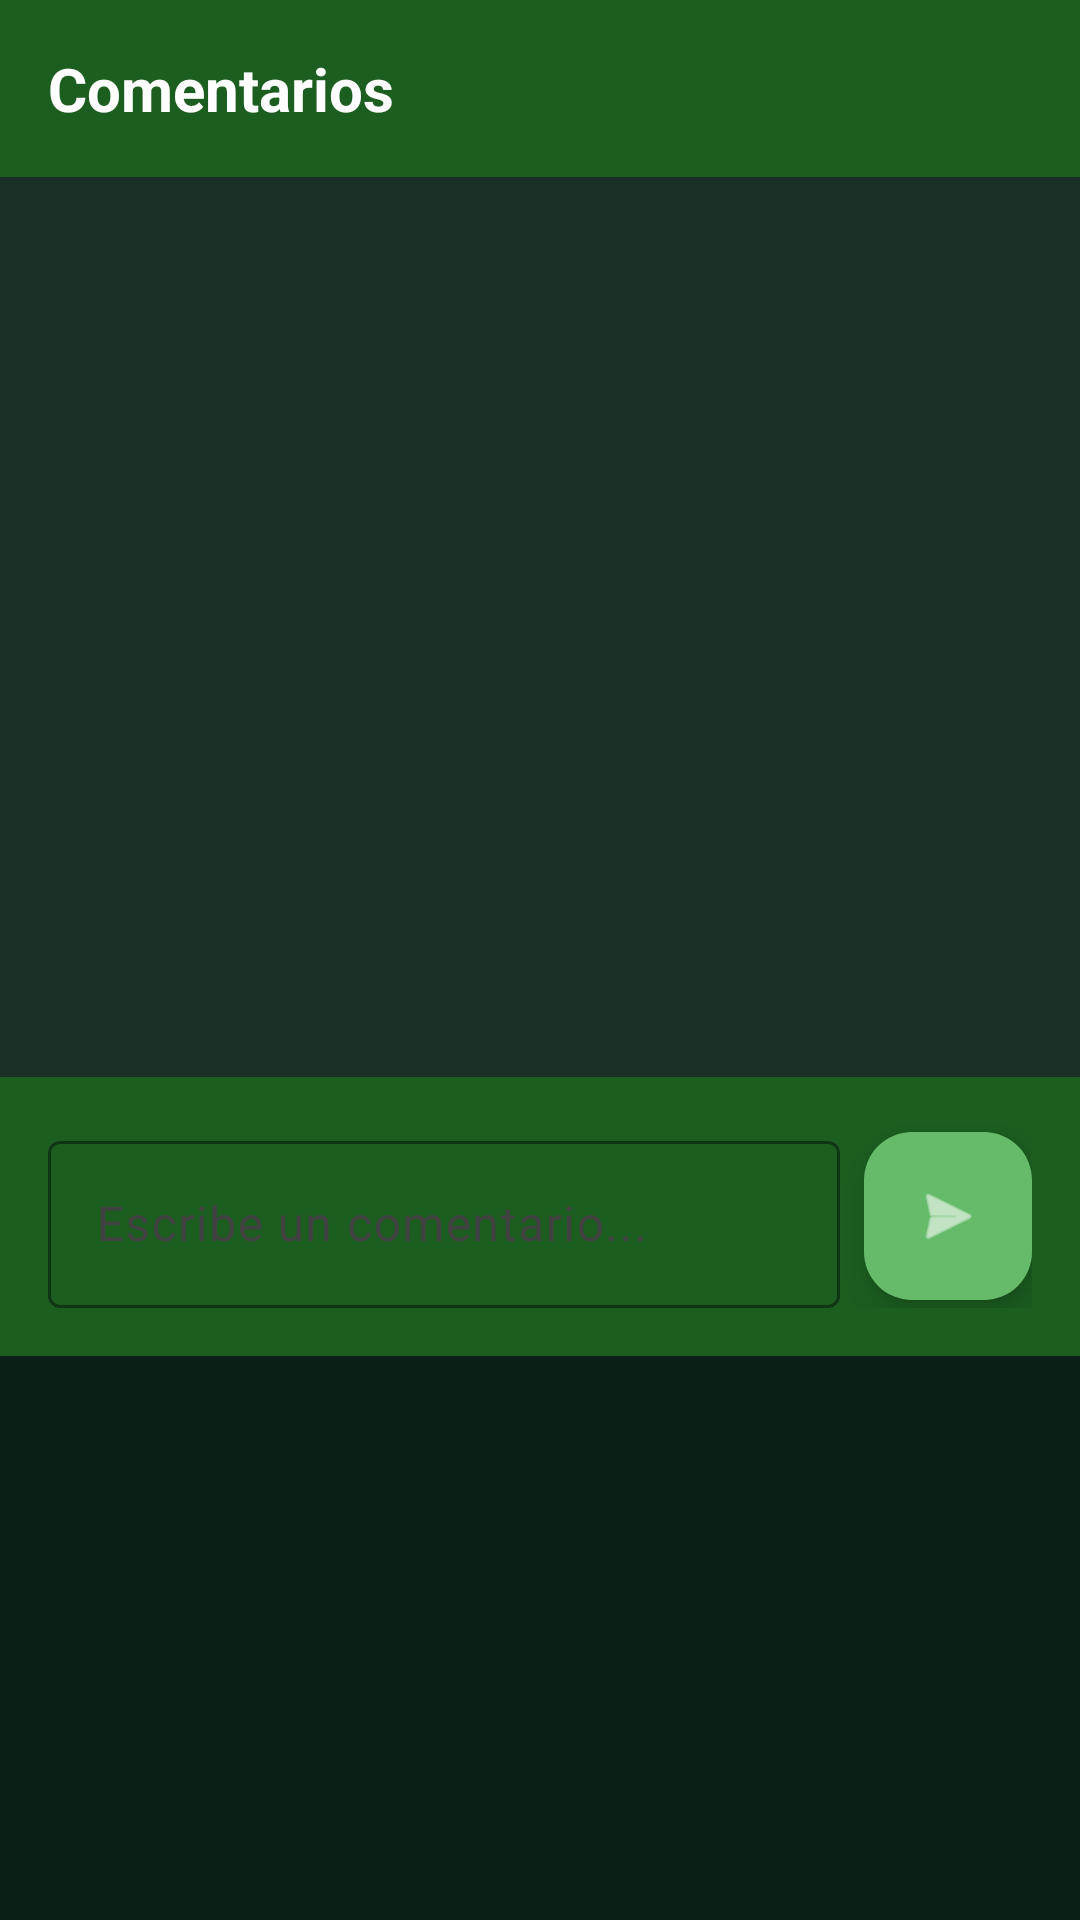

Icon bounding boxes for this 1080 × 1920 phone screenshot, format detection(x1, y1, x2, y2):
Enviar: detection(864, 1132, 1032, 1300)
